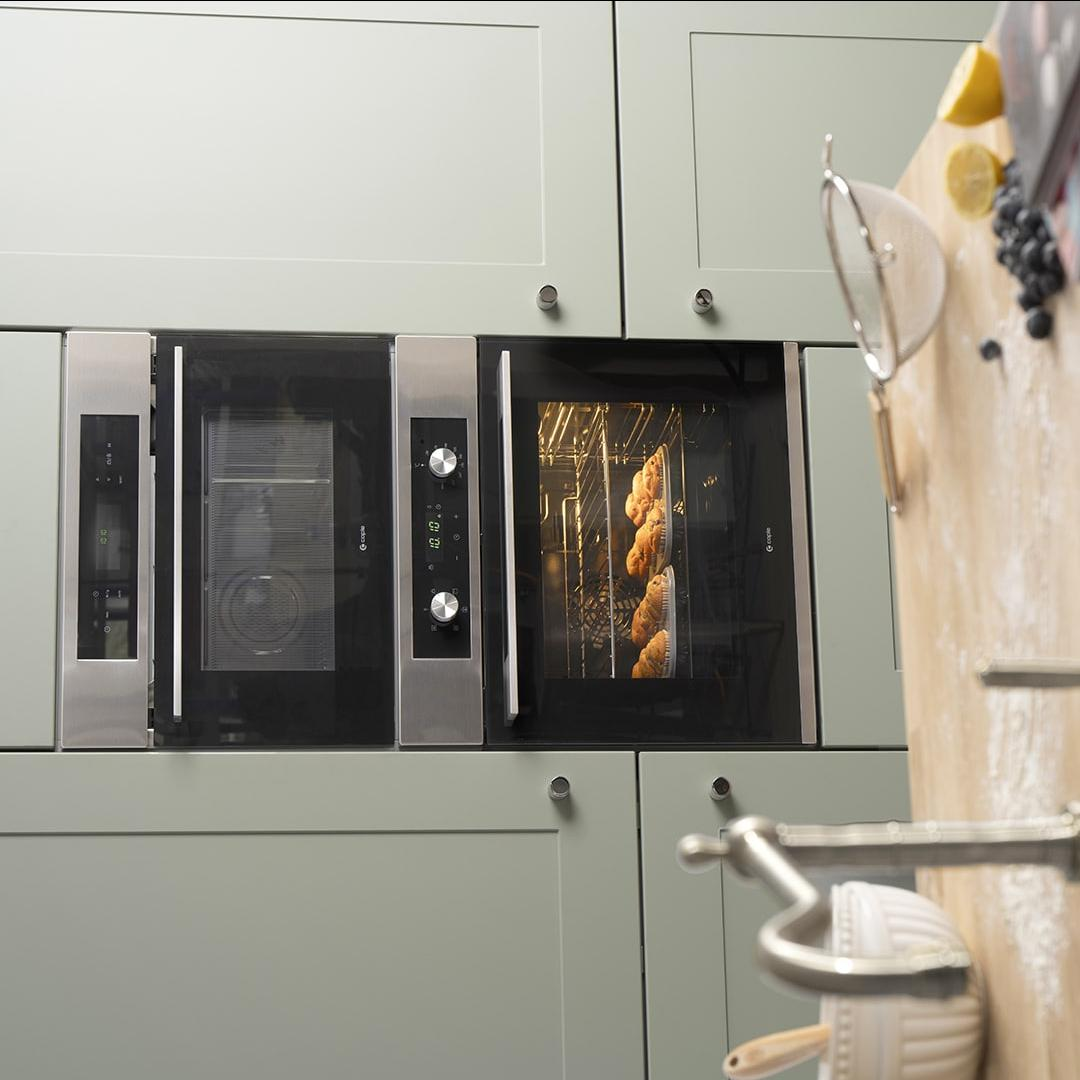controlled_fire: (488, 385, 728, 710)
